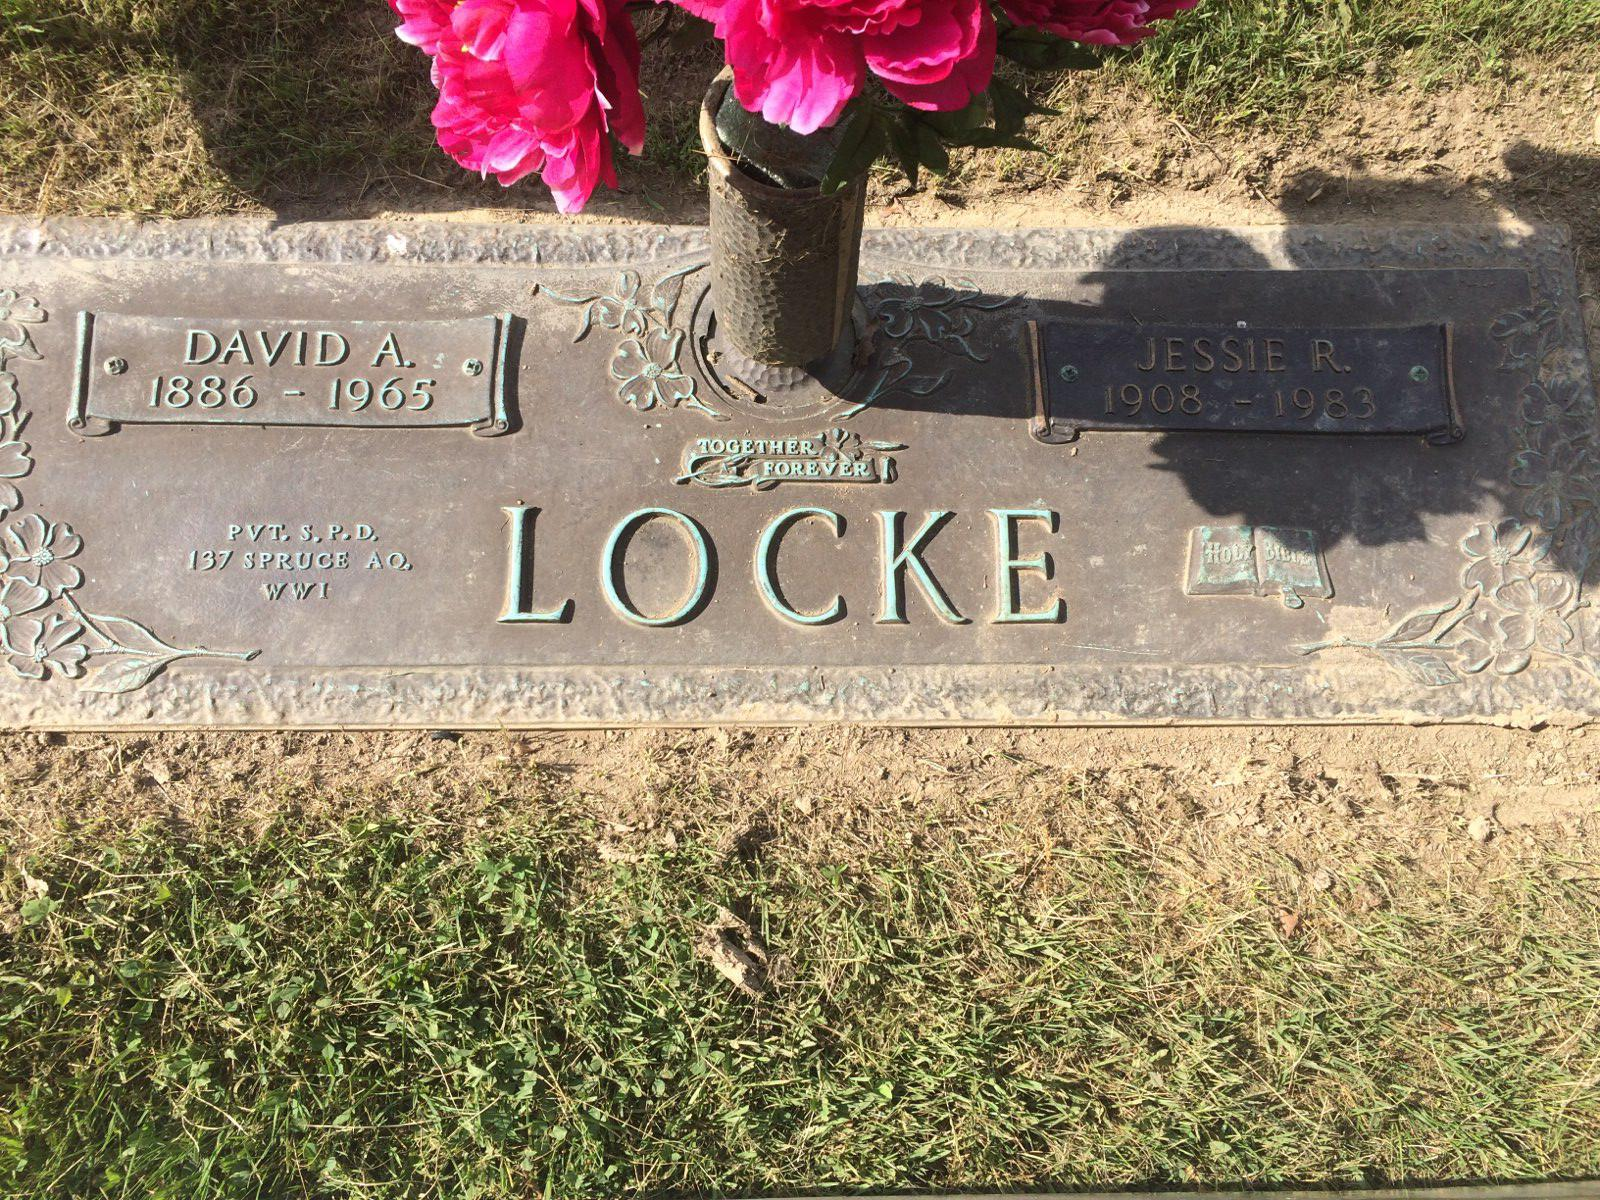flat: (0, 200, 1600, 737)
